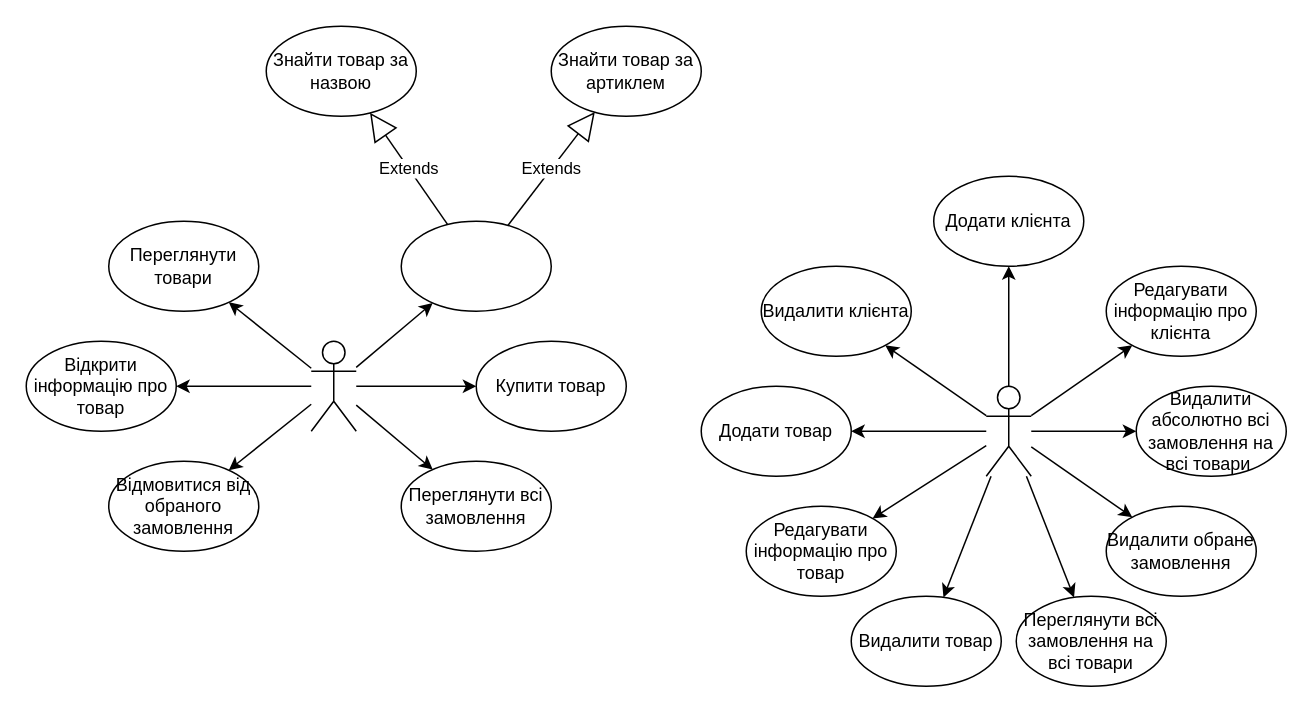
This 1313x713 diagram has some shape labels left out. The shapes that lost their labels are listed below. From the top down, each one's box as (x1, y1, x2, y2) in pixels, then its label:
(400, 220, 551, 311): Знайти товар
(310, 340, 356, 431): Customer
(985, 385, 1031, 476): Admin
